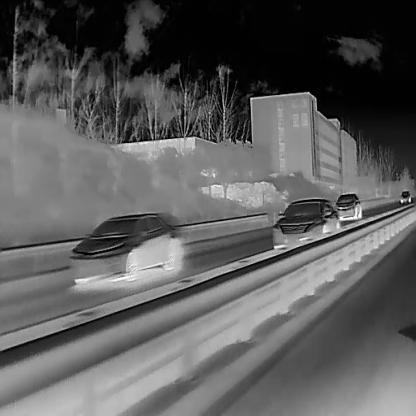car: (68, 212, 183, 284), (271, 198, 344, 251), (332, 193, 361, 220), (399, 189, 410, 203)
